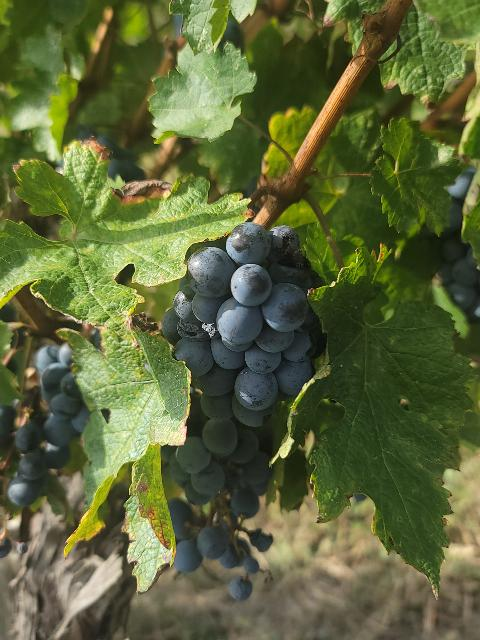grapes: (162, 222, 319, 575)
